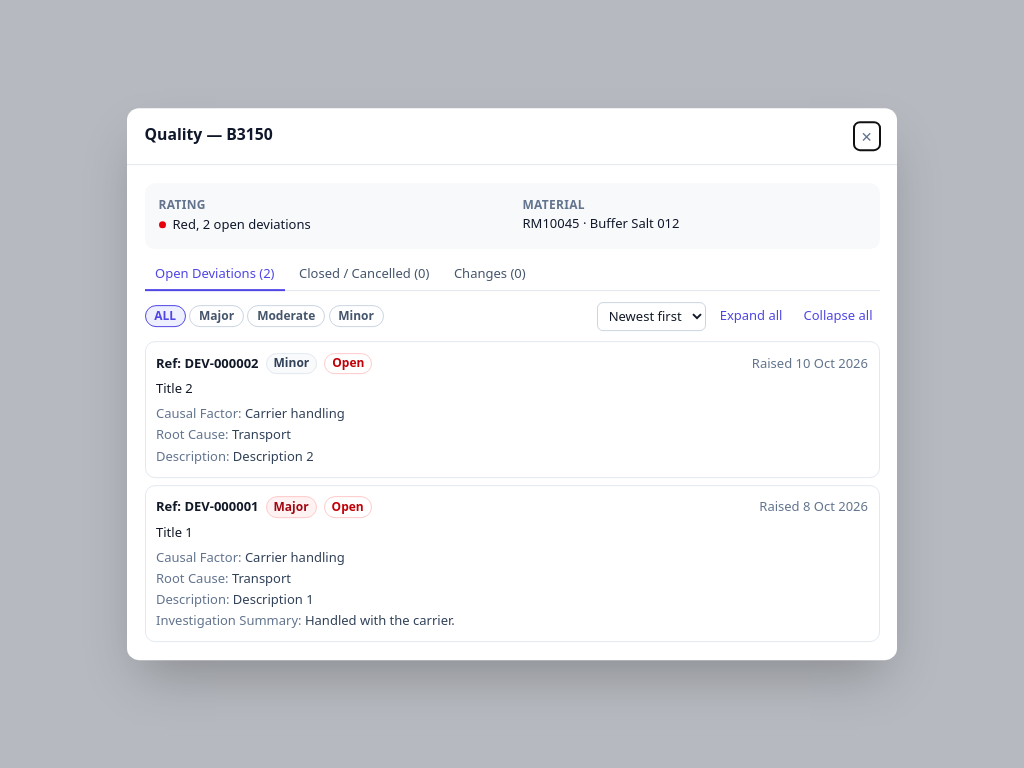
Test case: F19-FR-01: the sort puts the newest first or the oldest first, and collapse all hides the details
Check: the element with test id "quality-rating" is shown, box left=158, top=215, right=311, bottom=235
Select "Oldest first" in the dropdown named "Sort": (651,316) left=597, top=302, right=706, bottom=331
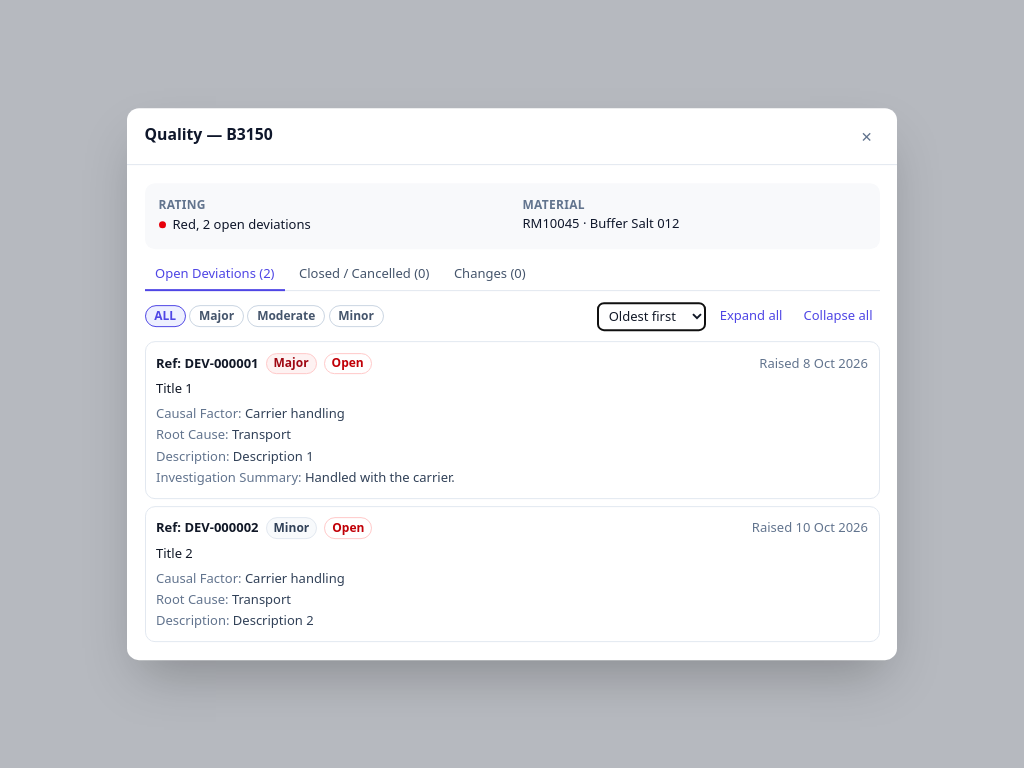
Click the button "Collapse all": (838,316) left=796, top=303, right=880, bottom=329
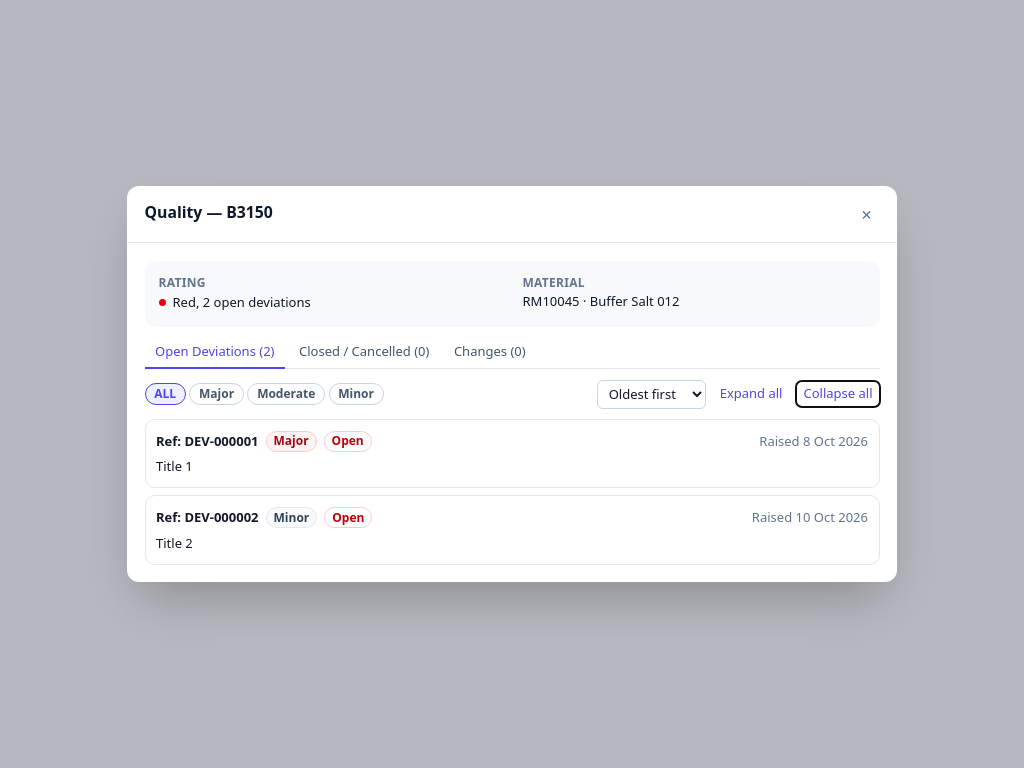
Check: the text "Causal Factor" is gone
Click the button "Expand all": (751,394) left=713, top=381, right=790, bottom=407
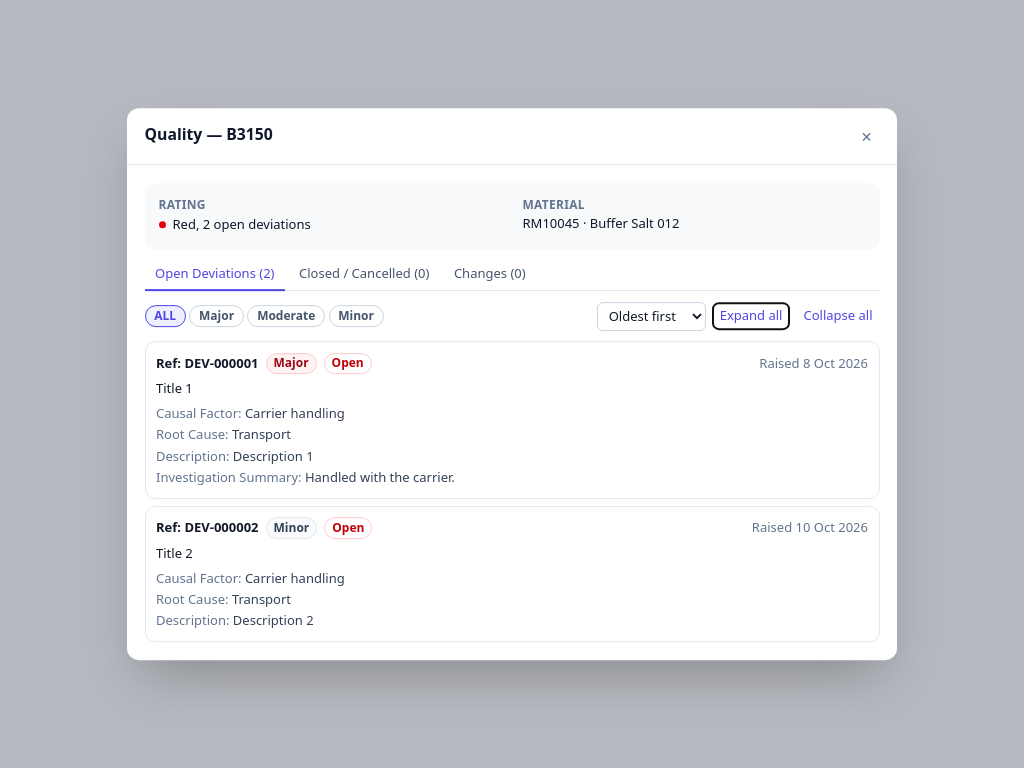
Check: the text "Causal Factor:" is shown 2 times, box left=156, top=404, right=245, bottom=422; left=156, top=569, right=245, bottom=587
